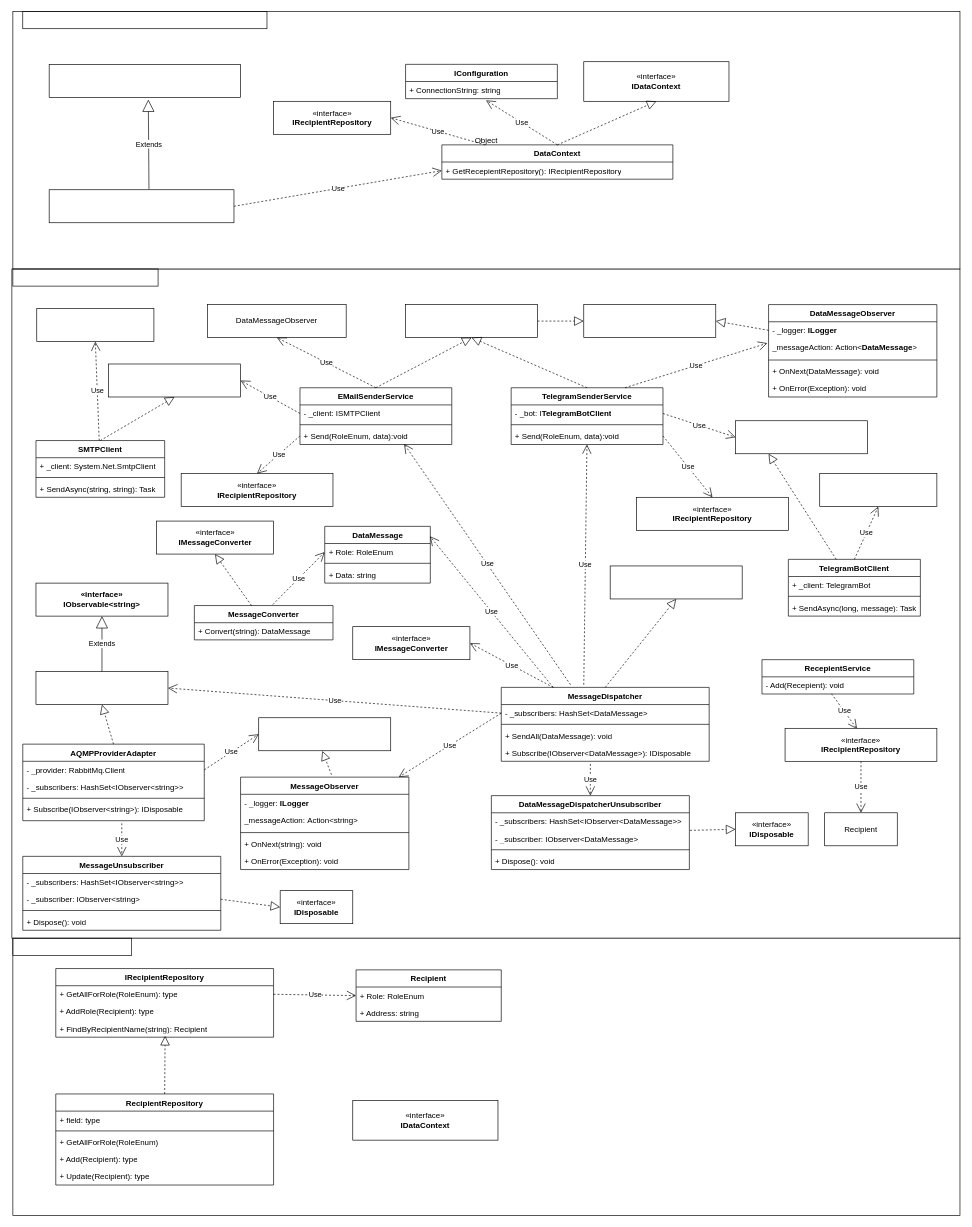
The diagram is 972 pixels wide and 1227 high, and some of its shapes have lost their labels. Here are the shapes that lost their labels. From the top down, the centre of each, then its label:
(144,20): FoodUserNotifier.Applicating (Net Generic Host)
(145,80): BaseController
(141,206): RecipientController
(85,277): FoodUserNotifier.BusinessLogic
(95,325): «interface» IOptions<SmtpSetting>
(471,321): «interface» ISenderService
(649,321): «interface» IObserver< DataMessage >
(174,380): «interface» I SMTPClient
(801,437): «interface» I TelegramBotClient
(878,490): «interface» IOptions<TelegramSetting>
(676,582): «interface» IObservable< DataMessage >
(101,688): «interface» IAQMPProvider
(324,734): «interface» IObserver< string >
(72,946): FoodUserAuth.DataAccess
